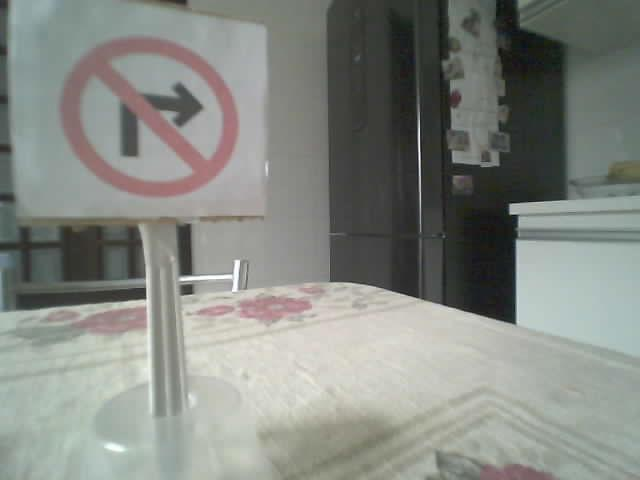R-4b_proibido-direita: (59, 35, 236, 196)
